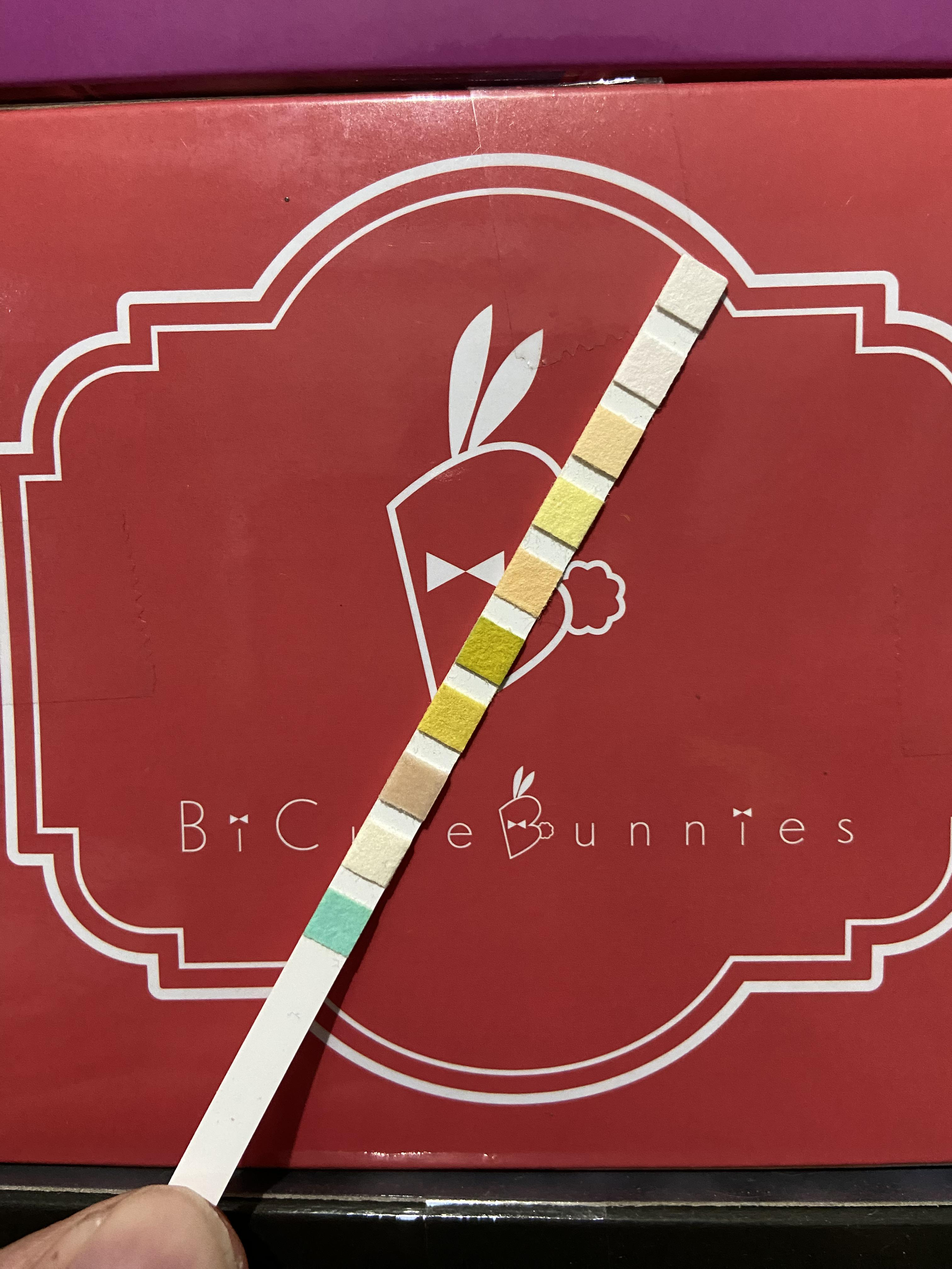Bilirubin: (357, 836, 393, 873)
Blood: (469, 636, 510, 668)
Glucose: (319, 903, 358, 943)
Ketone: (394, 768, 432, 803)
Leukocytes: (670, 276, 715, 309)
Nitrite: (628, 351, 670, 385)
Protein: (547, 498, 588, 529)
SpGravity: (431, 703, 473, 734)
Urobilinogen: (586, 426, 628, 458)
pH: (507, 567, 549, 599)
strip: (180, 253, 729, 1183)
